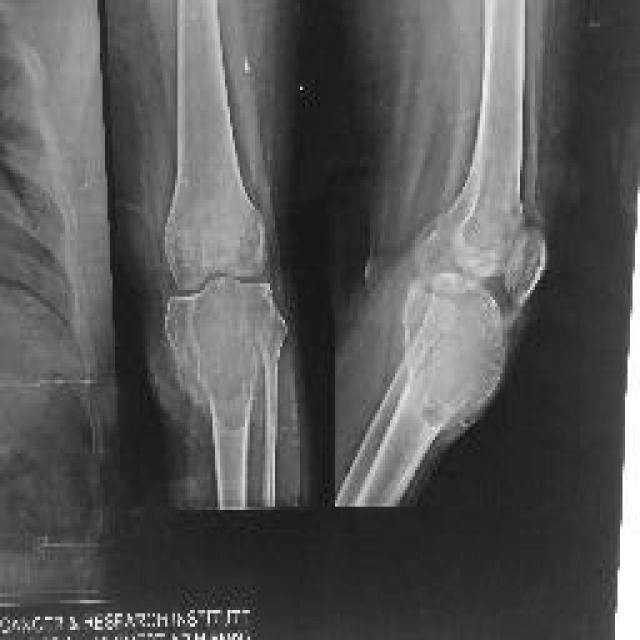bone-cancer: (165, 275, 286, 430), (398, 272, 506, 438)
